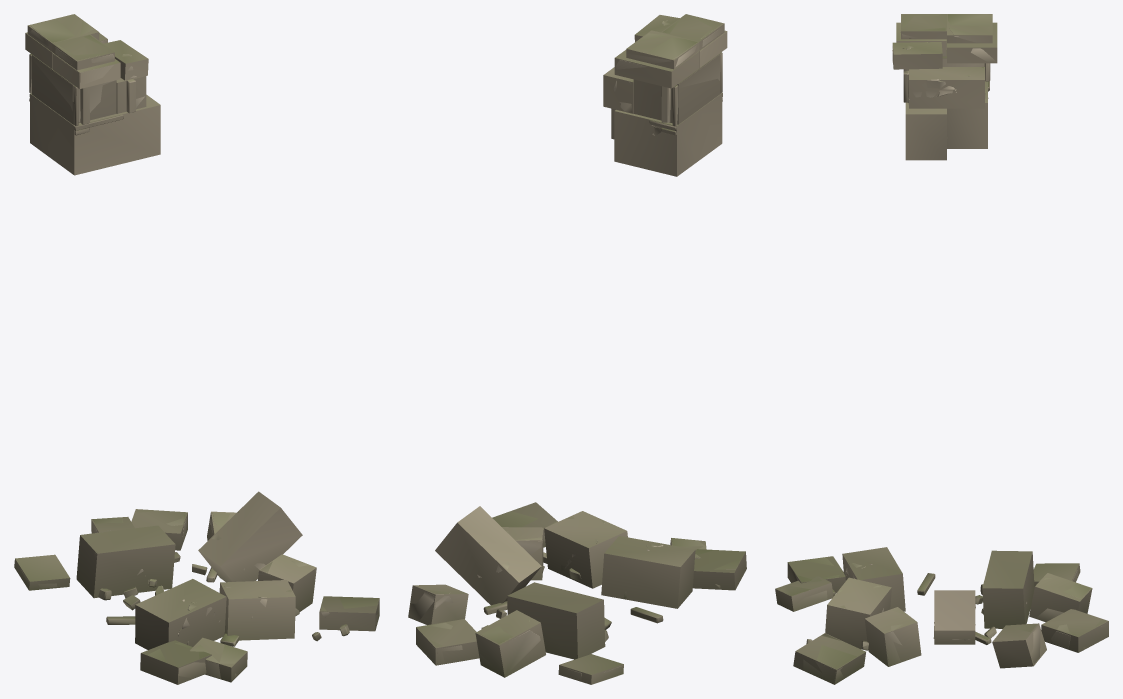
File: lintel_broken.glb
3 renders of one model, left to right at view 1: azimuth 30°, elevation 25°; view 2: azimuth 150°, elevation 25°; view 3: azimuth 270°, elevation 25°, orthographic. The views are drawn at different scales.
Parts seen in each view (by area): view 1: lintel_broken_far, lintel_broken; view 2: lintel_broken_far, lintel_broken; view 3: lintel_broken_far, lintel_broken.
Part boxes in pixels (left/top/right/bottom): lintel_broken_far: left=14, top=14, right=379, bottom=684; lintel_broken: left=20, top=20, right=379, bottom=678; lintel_broken_far: left=408, top=14, right=746, bottom=684; lintel_broken: left=409, top=16, right=741, bottom=680; lintel_broken_far: left=775, top=14, right=1108, bottom=684; lintel_broken: left=780, top=14, right=1107, bottom=683.
Size of the model in its own units: 18.16 by 38.57 by 21.09.
